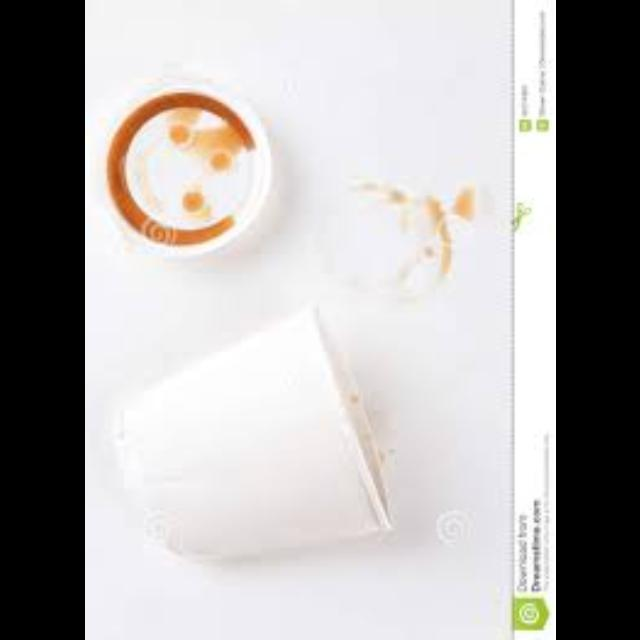trash: (115, 300, 398, 566)
